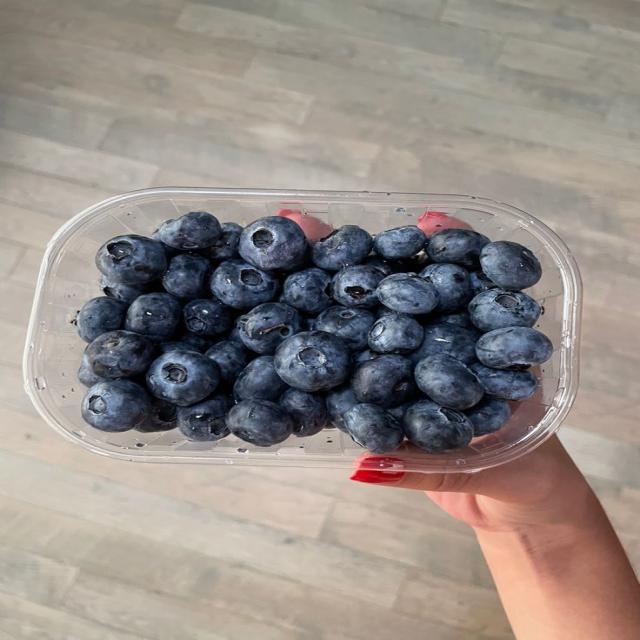blueberry: (275, 331, 351, 392), (147, 351, 219, 406), (414, 354, 484, 409), (239, 216, 306, 270), (81, 380, 151, 431), (403, 401, 473, 452), (96, 235, 166, 284), (210, 260, 279, 309), (476, 327, 553, 369), (352, 355, 414, 407), (86, 331, 154, 378), (239, 303, 301, 354), (468, 289, 540, 332), (227, 400, 293, 446), (480, 241, 541, 290), (345, 404, 404, 453), (408, 323, 476, 364), (312, 226, 373, 271), (125, 293, 181, 341), (314, 306, 375, 350), (470, 363, 539, 401), (420, 263, 472, 313), (377, 273, 439, 314), (178, 395, 233, 441), (157, 212, 222, 250), (281, 268, 333, 315), (426, 229, 489, 267), (234, 356, 286, 401), (332, 265, 386, 308), (76, 297, 127, 342), (280, 389, 326, 437), (162, 254, 211, 299), (368, 314, 423, 353), (206, 340, 248, 382), (183, 299, 231, 335), (374, 226, 426, 259), (466, 400, 511, 437), (202, 222, 243, 260), (100, 275, 153, 304), (326, 385, 359, 431), (135, 398, 177, 432), (427, 311, 476, 331), (78, 351, 105, 386), (176, 331, 214, 353), (387, 399, 418, 424), (469, 271, 497, 296), (360, 255, 395, 275), (158, 341, 199, 354), (227, 321, 244, 346), (353, 349, 379, 365), (375, 306, 398, 318), (302, 318, 314, 330)
